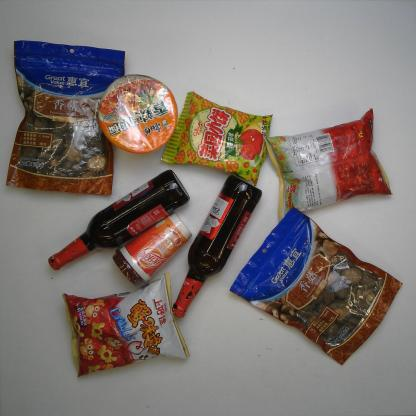Alcohol: (46, 170, 191, 272), (170, 174, 262, 319)
Dried Food: (229, 206, 404, 367), (5, 38, 125, 198)
Instant Drink: (111, 212, 193, 288)
Instant Noodles: (97, 73, 179, 155)
Puffed Food: (263, 108, 393, 222), (61, 272, 191, 378), (160, 90, 274, 187)
